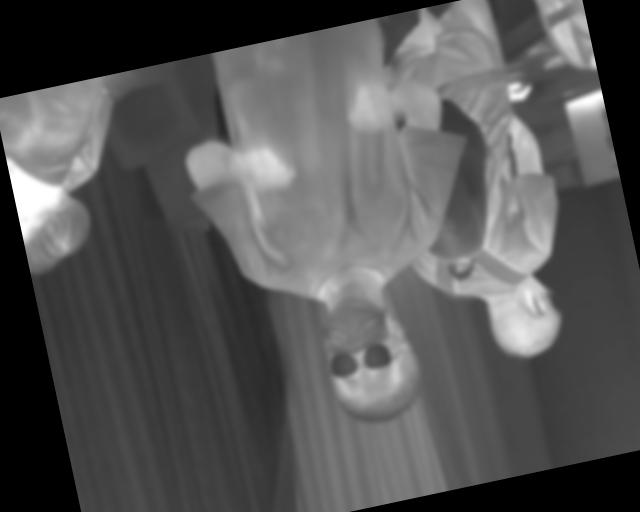face: (310, 286, 429, 432)
